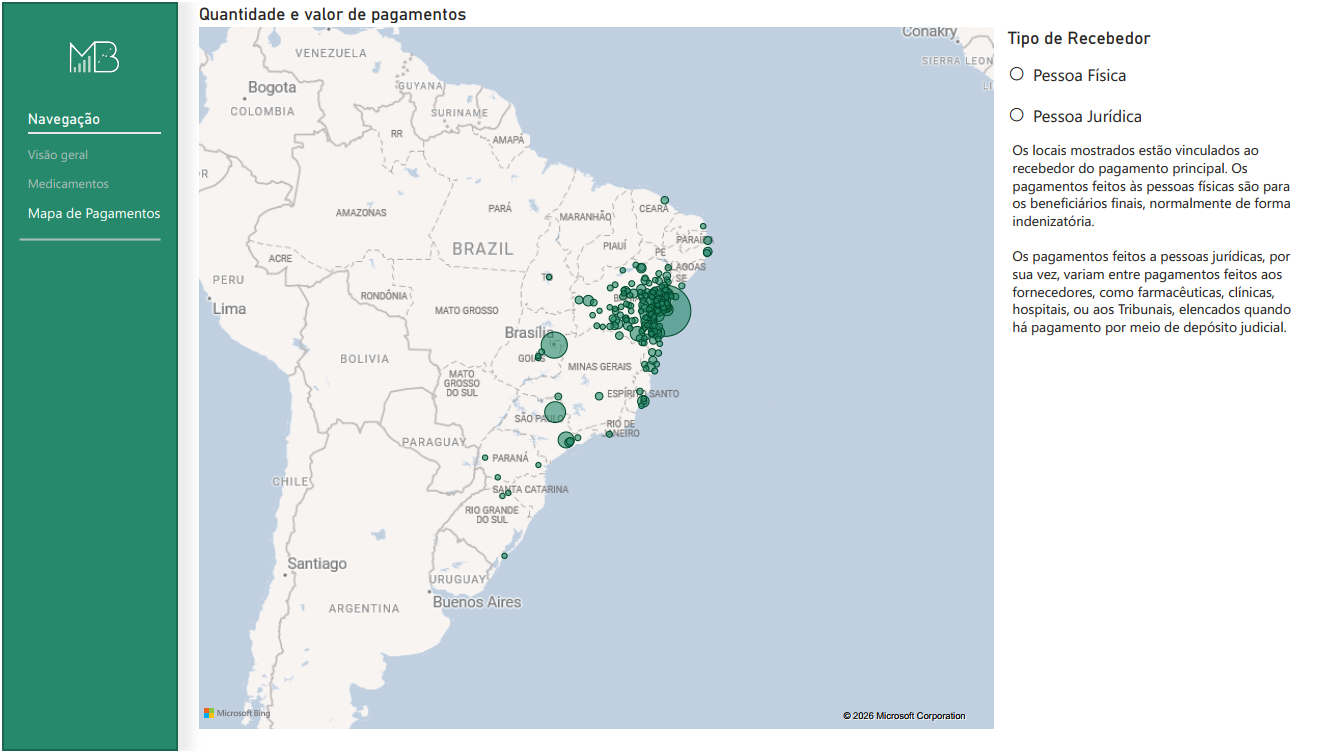

The dashboard page shown, as its layout file describes it:
{"tool":"powerbi","page":{"name":"Mapa de Pagamentos","canvas":[1280,720],"ordinal":2},"visuals":[{"type":"map","title":"Quantidade e valor de pagamentos","fields":{"Category":["Visão Judicialização.municipio_uf"],"Size":["Visão Judicialização.Valor Total"]},"box":[184,0,776,704],"z":0},{"type":"listSlicer","fields":{"Values":["Visão Judicialização.tipo_recebedor"]},"box":[968,24,160,104],"z":1000},{"type":"shape","box":[0,0,168,720],"z":2000},{"type":"textbox","box":[968,128,280,208],"z":3000},{"type":"pageNavigator","title":"Navegação","box":[24,104,128,112],"z":4000},{"type":"image","box":[64,24,48,56],"z":5000},{"type":"shape","box":[16,216,136,24],"z":6000}]}

Visuals, with their boxes on the page's 1280x720 design canvas (x1, y1, x2, y2). These are canvas units, not pixel positions in the 1325x752 screenshot, which may show the page scaled, cropped or inside an application window:
"Quantidade e valor de pagamentos" map: crop(184, 0, 960, 704)
listSlicer - Visão Judicialização.tipo_recebedor: crop(968, 24, 1128, 128)
shape: crop(0, 0, 168, 720)
textbox: crop(968, 128, 1248, 336)
"Navegação" pageNavigator: crop(24, 104, 152, 216)
image: crop(64, 24, 112, 80)
shape: crop(16, 216, 152, 240)
